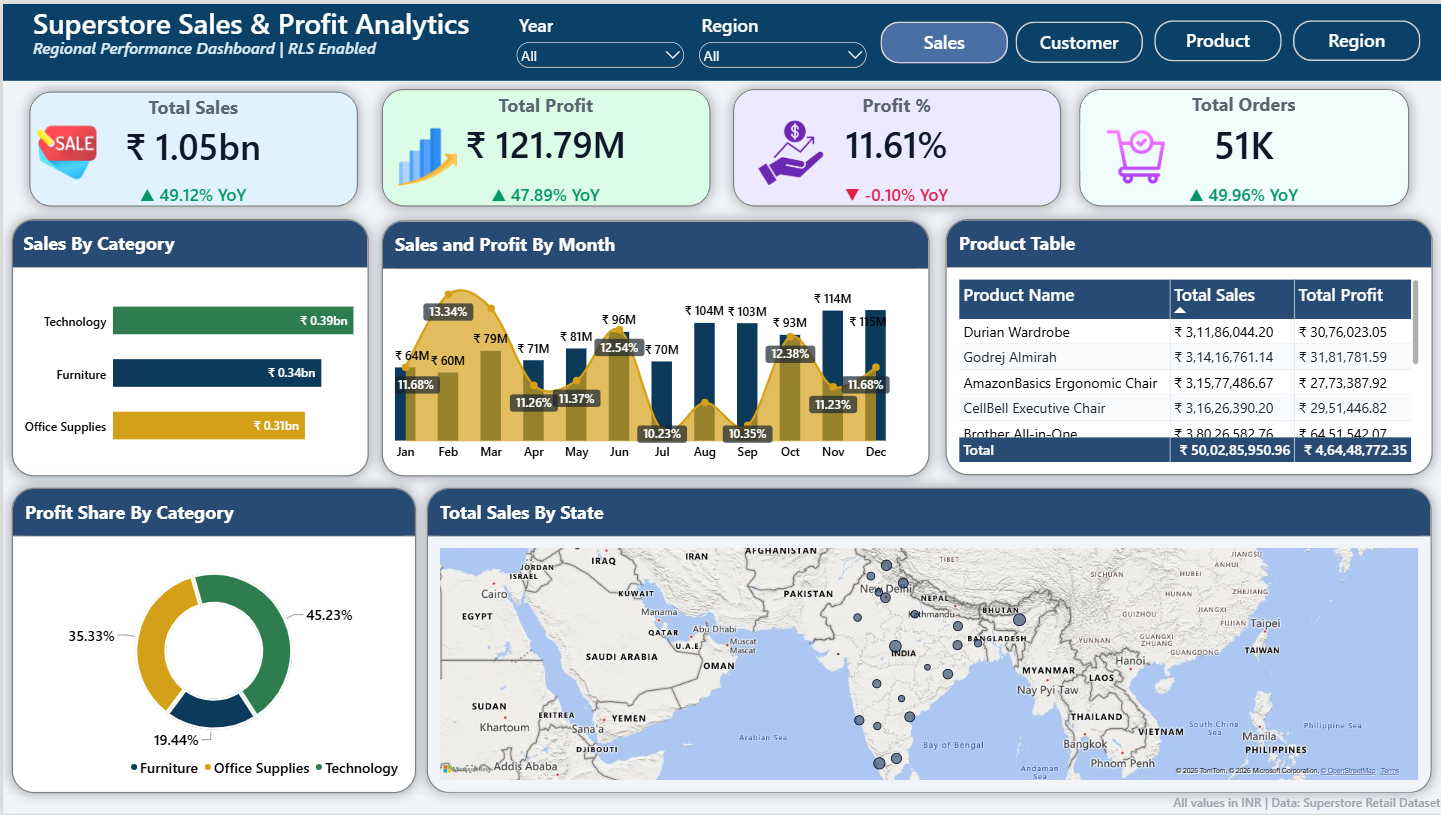

The dashboard page shown, as its layout file describes it:
{"tool":"powerbi","page":{"name":"Sales Overview","canvas":[1920,1080],"ordinal":0},"visuals":[{"type":"cardVisual","fields":{"Data":["Orders.Total Profit Display"]},"box":[505.2,113.5,438.3,157],"z":0},{"type":"cardVisual","fields":{"Data":["Orders.Profit %"]},"box":[973.1,113.5,437.8,157],"z":1000},{"type":"cardVisual","fields":{"Data":["Orders.Total Orders"]},"box":[1434.7,113.5,439.9,157],"z":2000},{"type":"barChart","title":"Sales By Category","fields":{"Category":["Orders.Category"],"Series":["Orders.Category"],"Y":["Orders.Total Sales (bn)"]},"box":[12.4,286,475.6,343.5],"z":3000},{"type":"map","title":"Total Sales By State","fields":{"Category":["Orders.State"],"Size":["Orders.Total Sales"]},"box":[565.8,645.1,1339.9,407.3],"z":4000},{"type":"lineStackedColumnComboChart","title":"Sales and Profit By Month","fields":{"Category":["DateTable.Month"],"Y":["Orders.Total Sales"],"Y2":["Orders.Profit %"]},"box":[505.2,287.6,730.6,342],"z":5000},{"type":"tableEx","title":"Product Table","fields":{"Values":["Orders.Product Name","Orders.Total Sales","Orders.Total Profit"]},"box":[1256,286,649.7,342],"z":6000},{"type":"textbox","box":[0,0,1918.1,102.6],"z":7000},{"type":"textbox","box":[0,1051.9,1917.8,28.5],"z":8000},{"type":"donutChart","title":"Profit Share By Category","fields":{"Category":["Orders.Category"],"Y":["Orders.Total Profit"]},"box":[12.4,645.1,539.4,407],"z":9000},{"type":"cardVisual","fields":{"Data":["Orders.Total Sales (bn)"]},"box":[34.2,116.6,438.3,153.9],"z":10000},{"type":"slicer","fields":{"Values":["DateTable.Year"]},"box":[679.3,10.9,233.2,80.8],"z":11000},{"type":"image","box":[34.2,158.5,99.5,79.3],"z":12000},{"type":"image","box":[513,164.8,105.7,77.7],"z":13000},{"type":"image","box":[997.9,155.4,104.1,87],"z":14000},{"type":"image","box":[1468.9,164.8,83.9,77.7],"z":15000},{"type":"actionButton","box":[1350.8,23.3,170,55.3],"z":16000},{"type":"actionButton","box":[1535.8,21.8,170,55],"z":17000},{"type":"actionButton","box":[1719.2,21.8,170,54.4],"z":18000},{"type":"actionButton","box":[1170.5,23.3,170,56],"z":19000},{"type":"slicer","fields":{"Values":["Users.Region"]},"box":[923.3,10.9,233.2,80.8],"z":20000}]}

Visuals, with their boxes in screenshot pixels (x1, y1, x2, y2), scaled from the page's 1920x1080 canvas onto the 1441x815 screenshot:
cardVisual - Orders.Total Profit Display: 379,86,708,204
cardVisual - Orders.Profit %: 730,86,1059,204
cardVisual - Orders.Total Orders: 1077,86,1407,204
"Sales By Category" barChart: 9,216,366,475
"Total Sales By State" map: 425,487,1430,794
"Sales and Profit By Month" lineStackedColumnComboChart: 379,217,927,475
"Product Table" tableEx: 943,216,1430,474
textbox: 0,0,1440,77
textbox: 0,794,1439,814
"Profit Share By Category" donutChart: 9,487,414,794
cardVisual - Orders.Total Sales (bn): 26,88,355,204
slicer - DateTable.Year: 510,8,685,69
image: 26,120,100,179
image: 385,124,464,183
image: 749,117,827,183
image: 1102,124,1165,183
actionButton: 1014,18,1141,59
actionButton: 1153,16,1280,58
actionButton: 1290,16,1418,58
actionButton: 878,18,1006,60
slicer - Users.Region: 693,8,868,69
